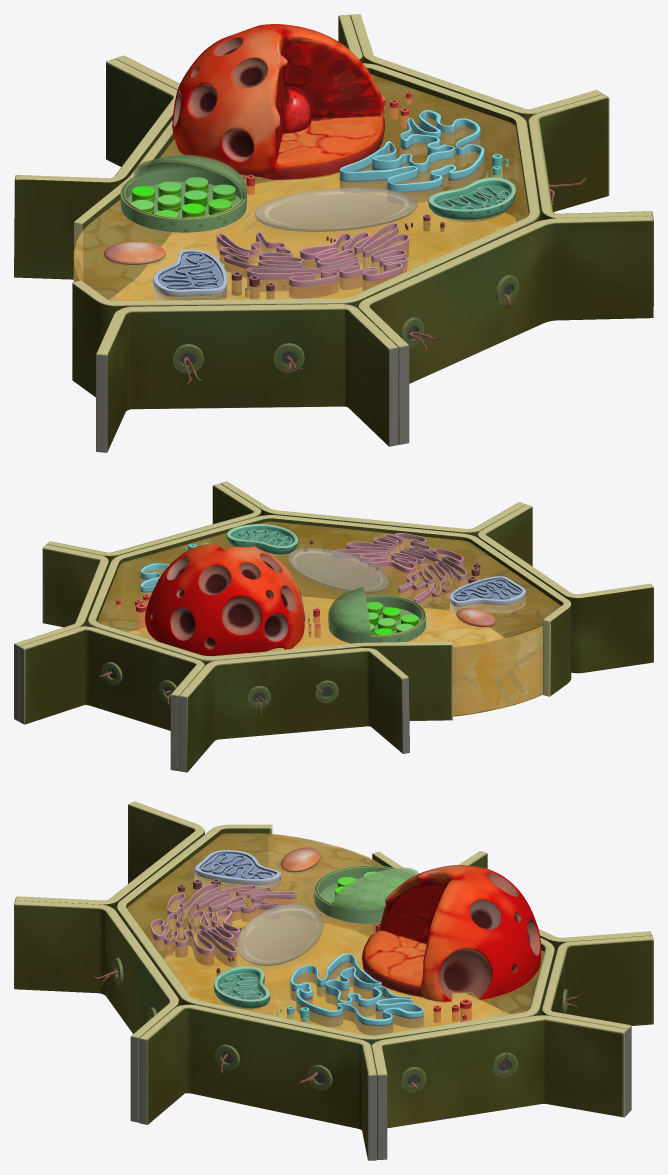
Rendered from plant_cell.glb.
3 renders of one model, top to bottom at view 1: azimuth 30°, elevation 25°; view 2: azimuth 150°, elevation 25°; view 3: azimuth 270°, elevation 25°, orthographic. The views are drawn at different scales.
Parts seen in each view (by area): view 1: plant_cell_cross_section_a.2, plant_cell_cross_section_mask.3; view 2: plant_cell_cross_section_a.2, plant_cell_cross_section_mask.3; view 3: plant_cell_cross_section_a.2, plant_cell_cross_section_mask.3.
Boxes of the visible parts, left/top/right/bottom form: plant_cell_cross_section_a.2: left=14, top=14, right=653, bottom=452; plant_cell_cross_section_mask.3: left=73, top=74, right=528, bottom=300; plant_cell_cross_section_a.2: left=14, top=481, right=653, bottom=772; plant_cell_cross_section_mask.3: left=97, top=521, right=560, bottom=650; plant_cell_cross_section_a.2: left=14, top=801, right=653, bottom=1160; plant_cell_cross_section_mask.3: left=127, top=833, right=543, bottom=1035.
Bounding box in the file's own units: 0.6357 × 0.183 × 0.6265.
Materials: 2 (2 with a texture image).
